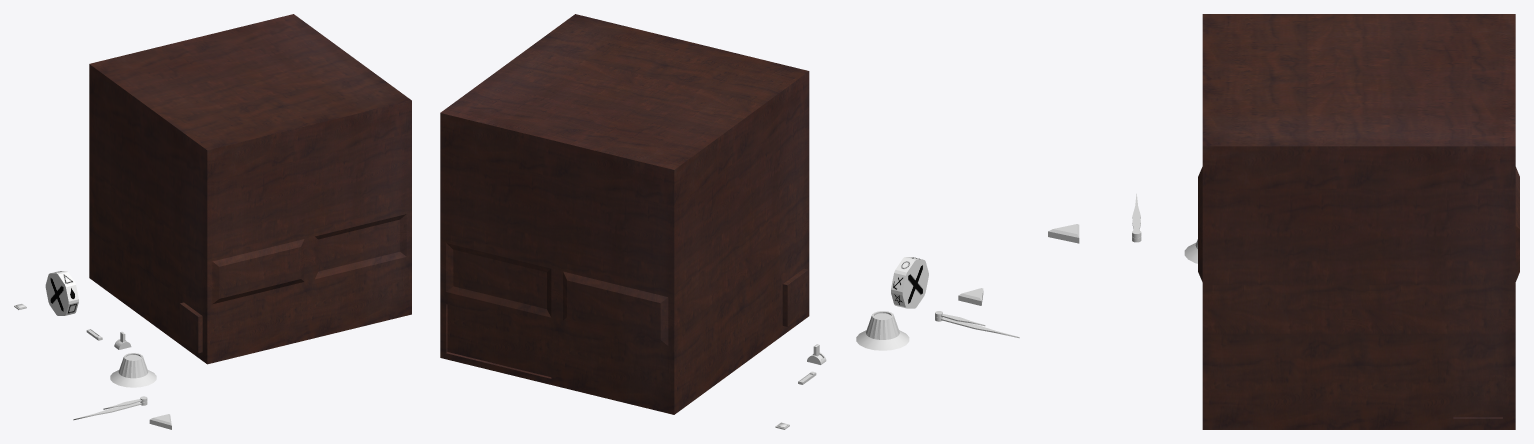
File: EvilBox.FBX
The picture shows the model from 3 angles, left to right: view 1: azimuth 30°, elevation 25°; view 2: azimuth 150°, elevation 25°; view 3: azimuth 270°, elevation 25°; orthographic projection. The views are drawn at different scales.
Visible parts, largest first — view 1: BoxTopRight, BoxTopLeft, Box0_Base, Drawer1, Drawer3, Drawer4, Spinner, KnobTop, Knob; view 2: BoxTopRight, Box0_Base, BoxTopLeft, Drawer1, Spinner, InitButton, KnobTop, Knob; view 3: BoxTopLeft, Box0_Base, BoxTopRight, Drawer2, Arrow.
Part boxes in pixels (<box>): BoxTopRight: <box>89,39,309,257</box>; BoxTopLeft: <box>192,14,411,232</box>; Box0_Base: <box>89,171,411,364</box>; Drawer1: <box>92,178,204,302</box>; Drawer3: <box>212,291,309,357</box>; Drawer4: <box>309,267,406,333</box>; Spinner: <box>45,271,78,315</box>; KnobTop: <box>118,353,148,378</box>; Knob: <box>110,370,156,387</box>; BoxTopRight: <box>557,42,809,292</box>; Box0_Base: <box>440,194,809,414</box>; BoxTopLeft: <box>440,14,691,263</box>; Drawer1: <box>677,202,805,344</box>; Spinner: <box>891,257,928,308</box>; InitButton: <box>627,353,663,401</box>; KnobTop: <box>866,311,899,339</box>; Knob: <box>856,330,909,350</box>; BoxTopLeft: <box>1202,80,1515,287</box>; Box0_Base: <box>1198,167,1519,429</box>; BoxTopRight: <box>1202,14,1515,79</box>; Drawer2: <box>1210,295,1507,351</box>; Arrow: <box>1048,224,1079,243</box>.
Bounding box in the file's own units: 1.78 × 1 × 1.51.
Materials: 3 (2 with a texture image).
